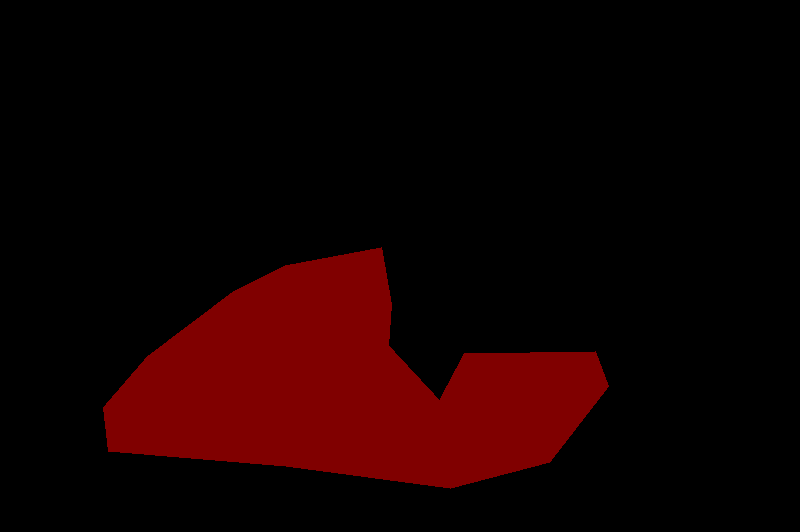fire: (103, 247, 608, 488)
